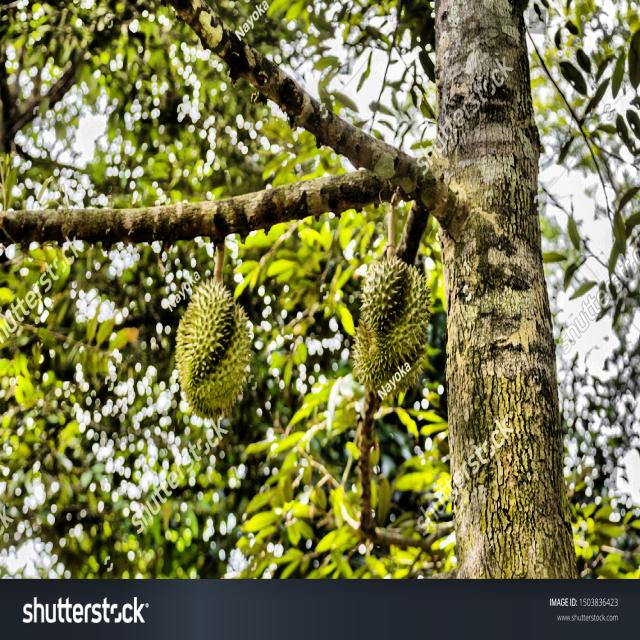arvore: (423, 0, 587, 575)
